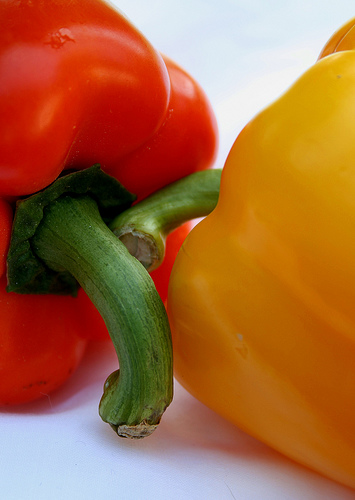capsicum: (108, 21, 353, 483), (0, 0, 220, 441)
